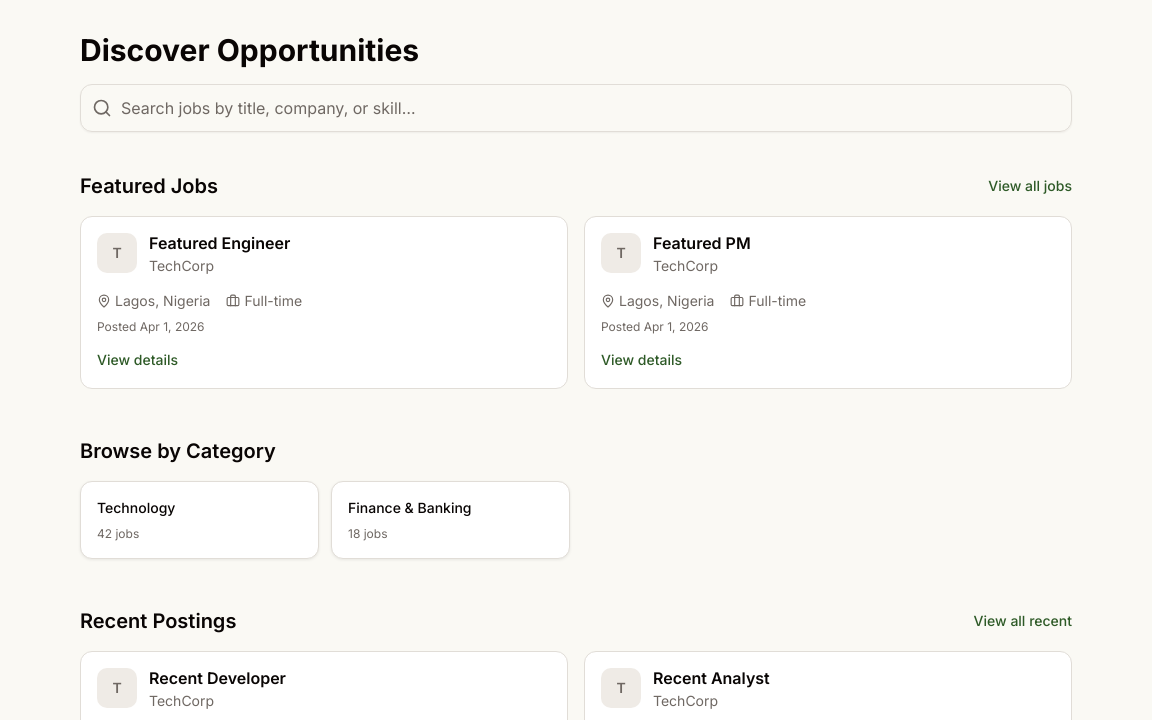
Test case: JobDiscoveryPageContent — search bar › clears input when clear button is clicked
This screenshot has width=1152, height=720.
In the search field: (576, 108) [80, 84, 1072, 132], type "test"
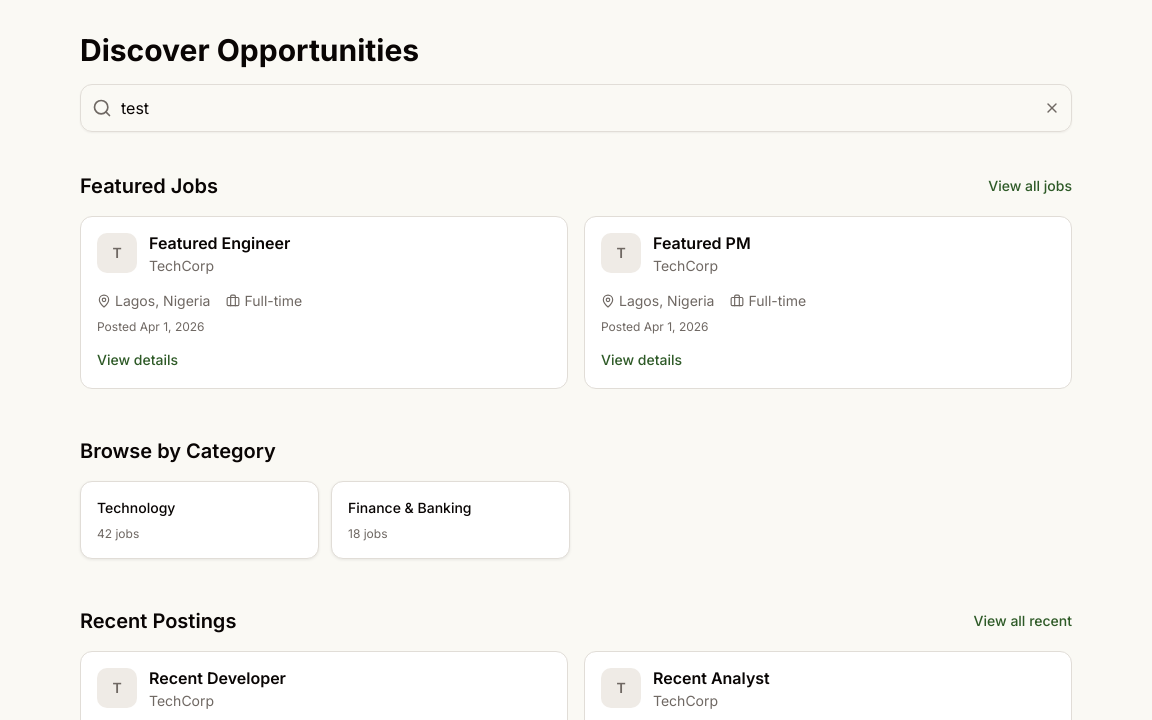
Click the button named "Clear search": (1052, 108) [1044, 100, 1060, 116]
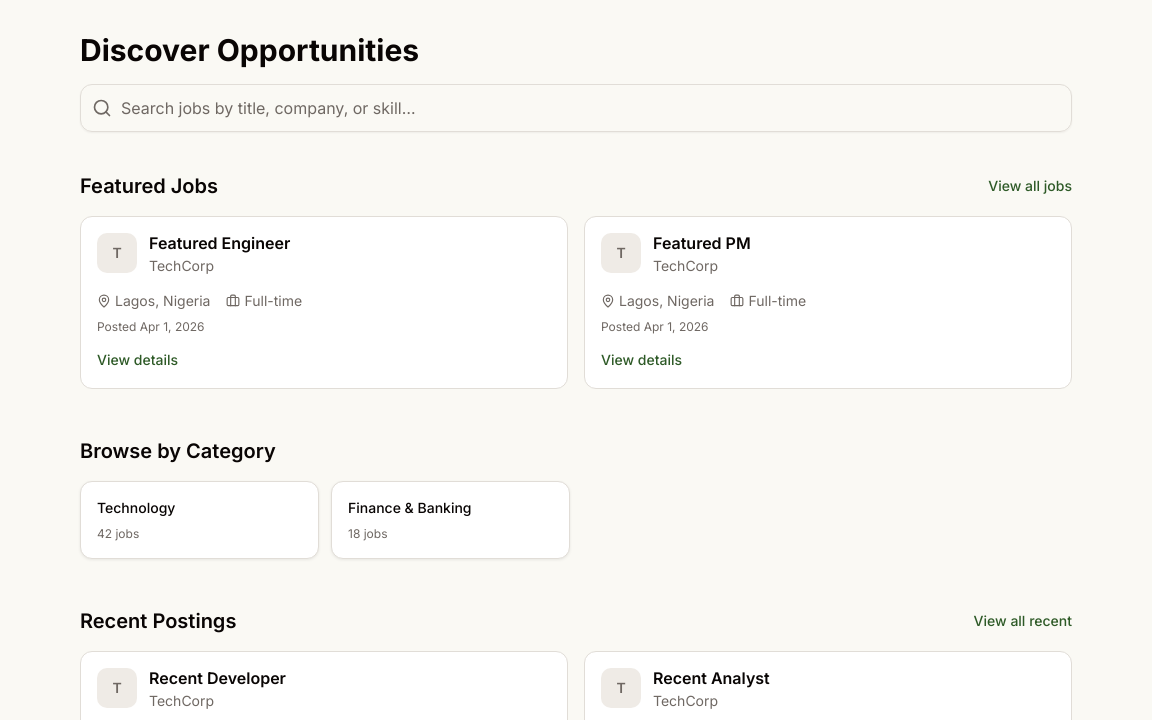
expect the search field is empty: met, box [80, 84, 1072, 132]
